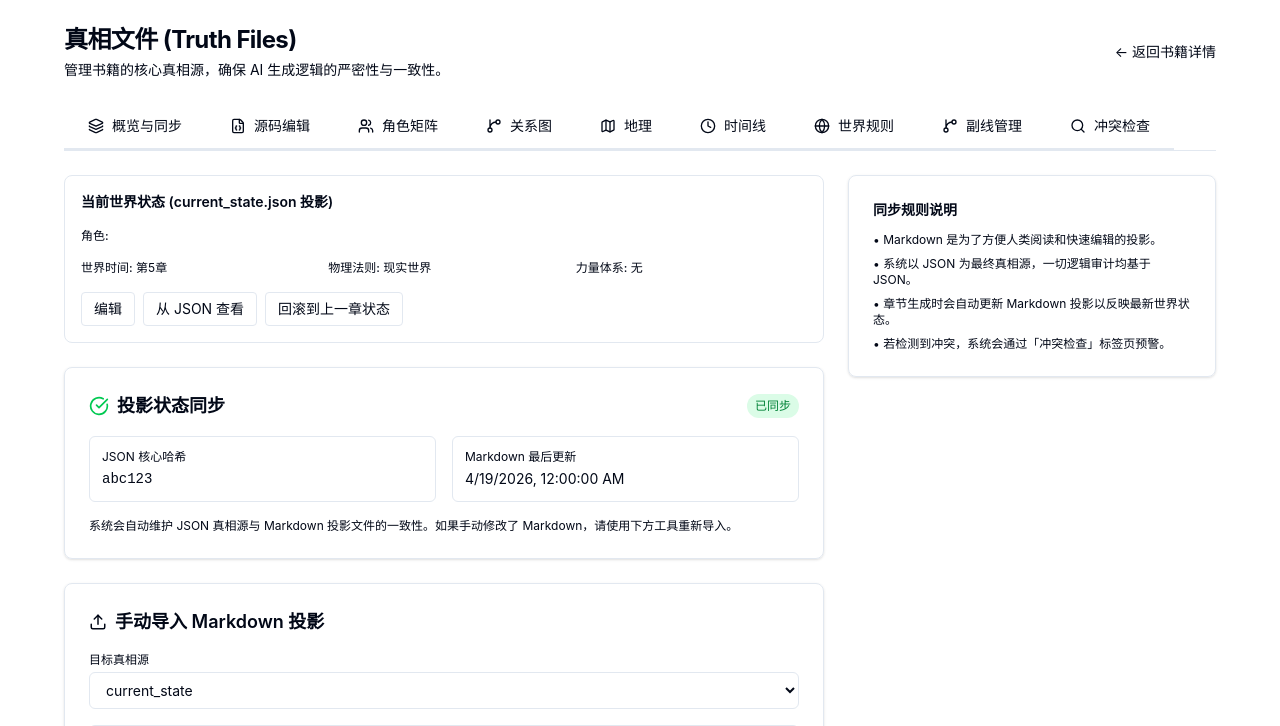
Scenario: TruthFiles Page › 从概览卡片打开上一章状态回滚确认
expect the heading "当前世界状态 (current_state.json 投影)" is shown: met, box top-left (81, 193), bottom-right (333, 210)
Click the button "回滚到上一章状态".
click(334, 309)  # box top-left (265, 292), bottom-right (403, 326)
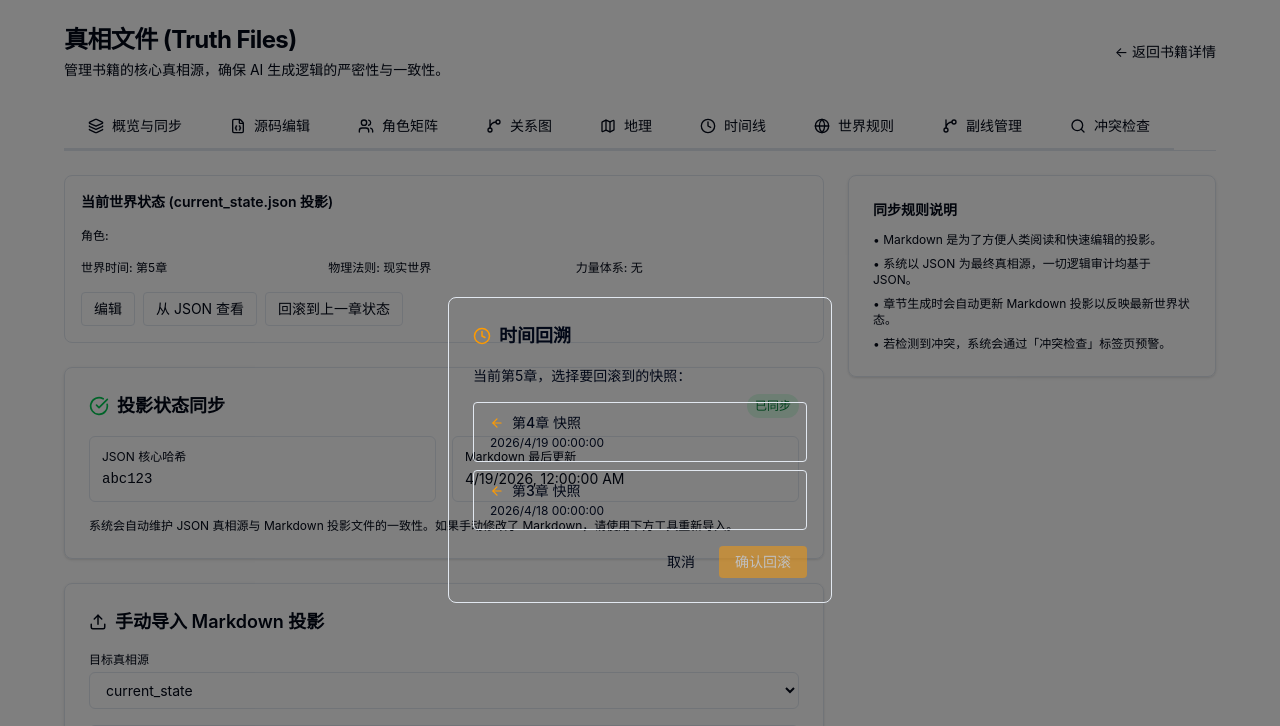
expect the heading "时间回溯" is shown: met, box top-left (499, 322), bottom-right (571, 350)
expect the text "第4章 快照" is shown: met, box top-left (512, 413), bottom-right (581, 433)
expect the button "确认回滚" is shown: met, box top-left (719, 546), bottom-right (807, 578)
